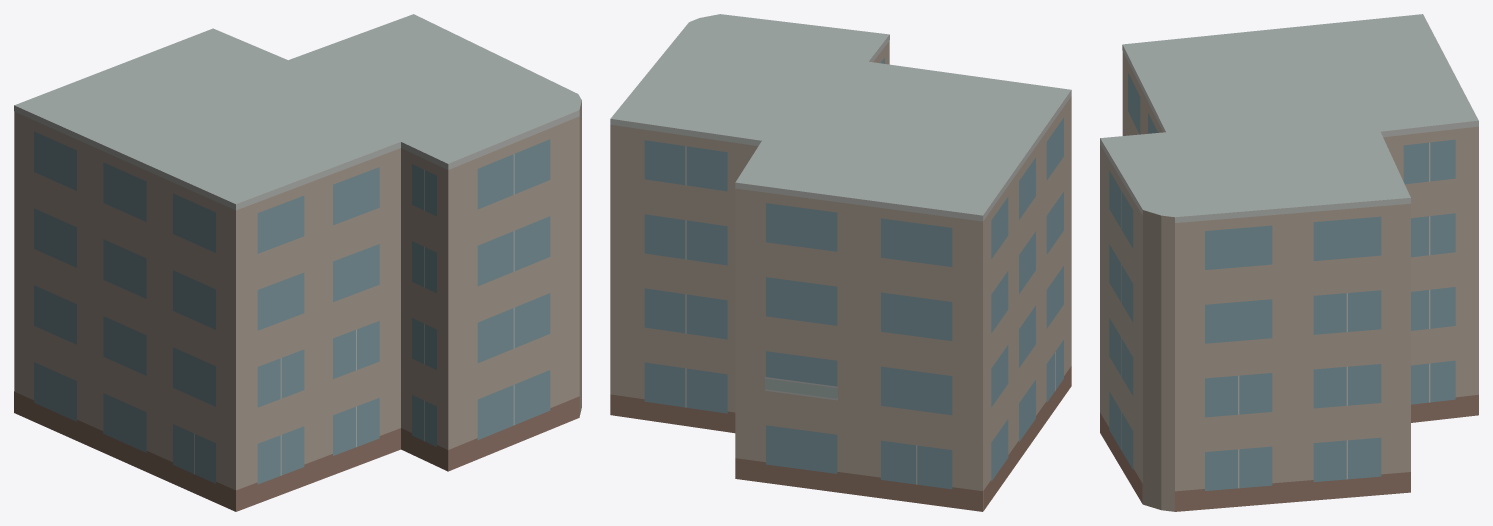
Rendered from survey-upis-32759766.glb.
3 renders of one model, left to right at view 1: azimuth 30°, elevation 25°; view 2: azimuth 150°, elevation 25°; view 3: azimuth 270°, elevation 25°, orthographic. The views are drawn at different scales.
Visible parts, largest first — view 1: survey-upis-32759766.tmp; view 2: survey-upis-32759766.tmp; view 3: survey-upis-32759766.tmp.
Boxes of the visible parts, x1,y1,x2,y2 form: survey-upis-32759766.tmp: [14, 14, 581, 511]; survey-upis-32759766.tmp: [610, 14, 1071, 511]; survey-upis-32759766.tmp: [1100, 14, 1478, 511].
Size of the model in its own units: 18.05 by 12.2 by 14.22.
